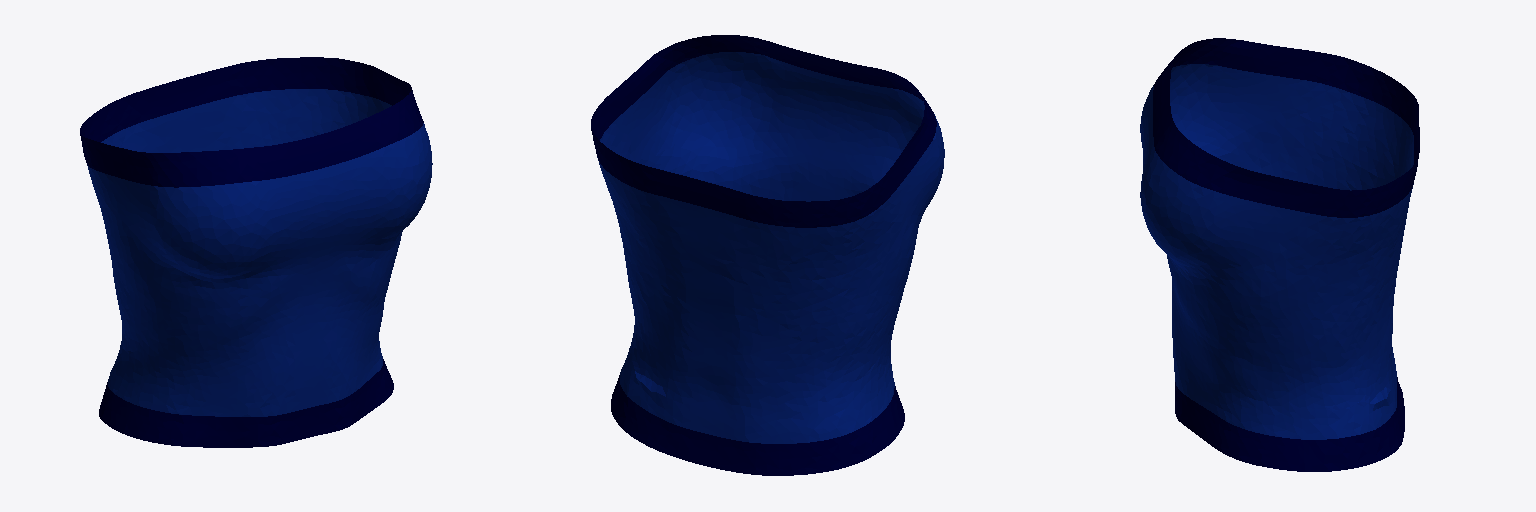
Rendered from top_blue.obj.
3 views of the same model, side by side, from view 1: azimuth 30°, elevation 25°; view 2: azimuth 150°, elevation 25°; view 3: azimuth 270°, elevation 25° (orthographic).
Visible parts, largest first — view 1: Cloth_Shape; view 2: Cloth_Shape; view 3: Cloth_Shape.
Part boxes in pixels (x1,y1,x2,y2): Cloth_Shape: (80, 57, 432, 447); Cloth_Shape: (591, 35, 944, 475); Cloth_Shape: (1140, 38, 1419, 471).
Bounding box in the file's own units: 0.1841 × 0.2045 × 0.1575.